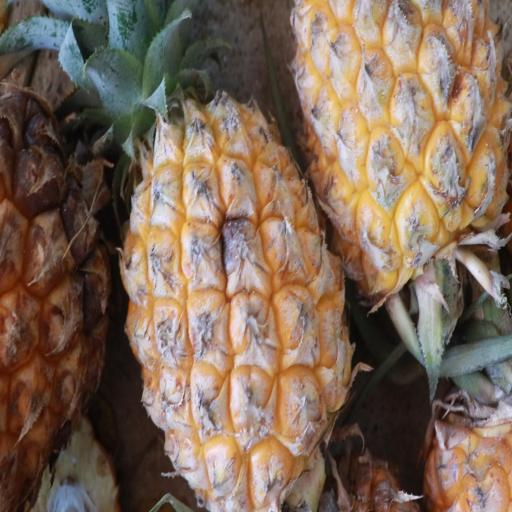Pineapple - v8 v1: (119, 0, 362, 512), (291, 2, 506, 307)
